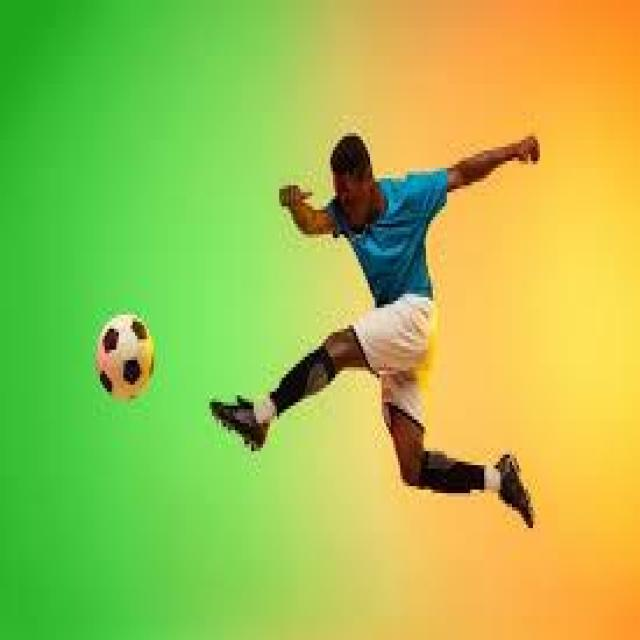Soccer Ball: (95, 315, 154, 402)
